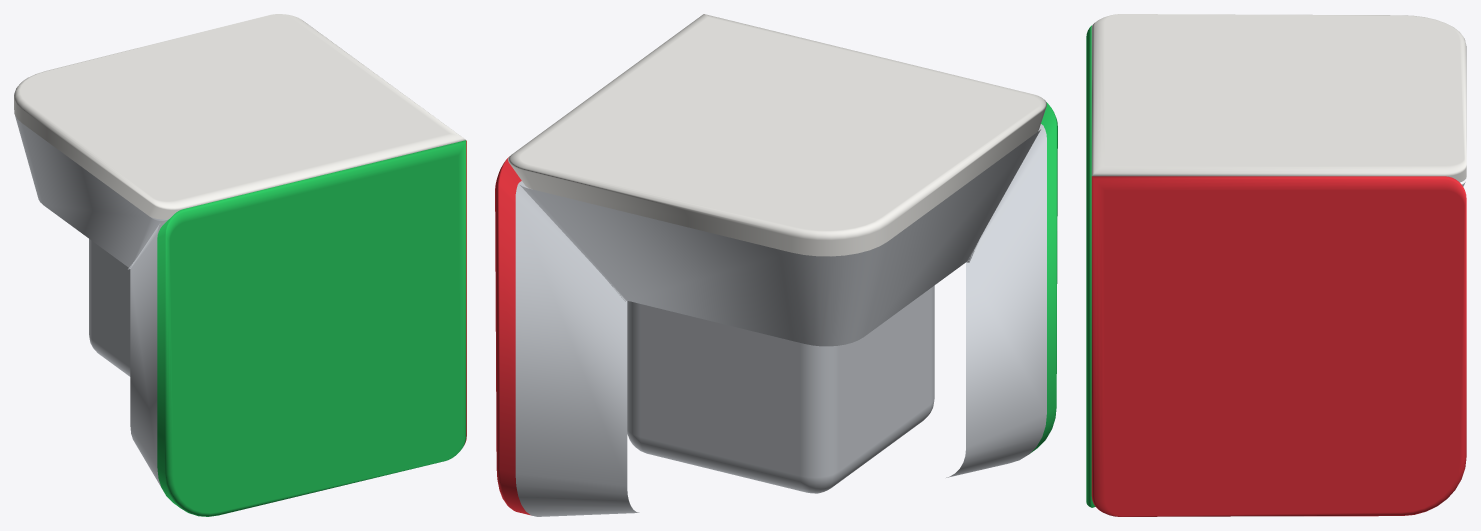
The model's file is ganI4-corner.gltf.
The picture shows the model from 3 angles, left to right: view 1: azimuth 30°, elevation 25°; view 2: azimuth 150°, elevation 25°; view 3: azimuth 270°, elevation 25°; orthographic projection. The views are drawn at different scales.
Bounding box in the file's own units: 1.02 × 1.02 × 1.02.
